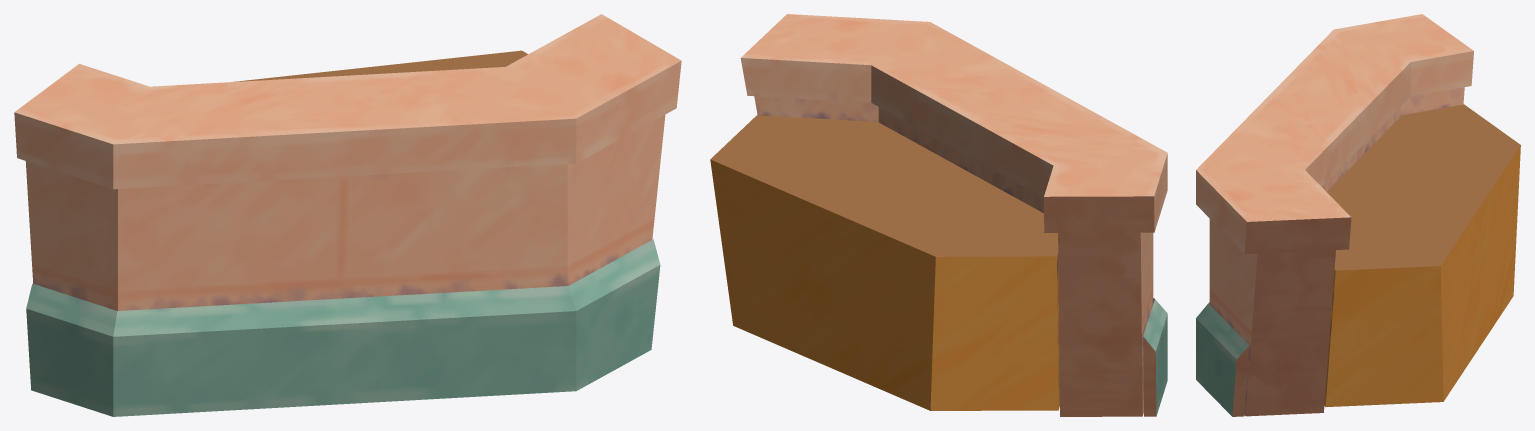
File: vat_saffron_s02.fbx
The picture shows the model from 3 angles, left to right: view 1: azimuth 30°, elevation 25°; view 2: azimuth 150°, elevation 25°; view 3: azimuth 270°, elevation 25°; orthographic projection. The views are drawn at different scales.
Parts seen in each view (by area): view 1: vat_saffron_s02; view 2: vat_saffron_s02; view 3: vat_saffron_s02.
Part boxes in pixels (x1=…): vat_saffron_s02: x1=14, y1=14, x2=681, y2=416; vat_saffron_s02: x1=710, y1=14, x2=1167, y2=416; vat_saffron_s02: x1=1196, y1=14, x2=1520, y2=416.
Size of the model in its own units: 3.61 by 1.7 by 2.38.
